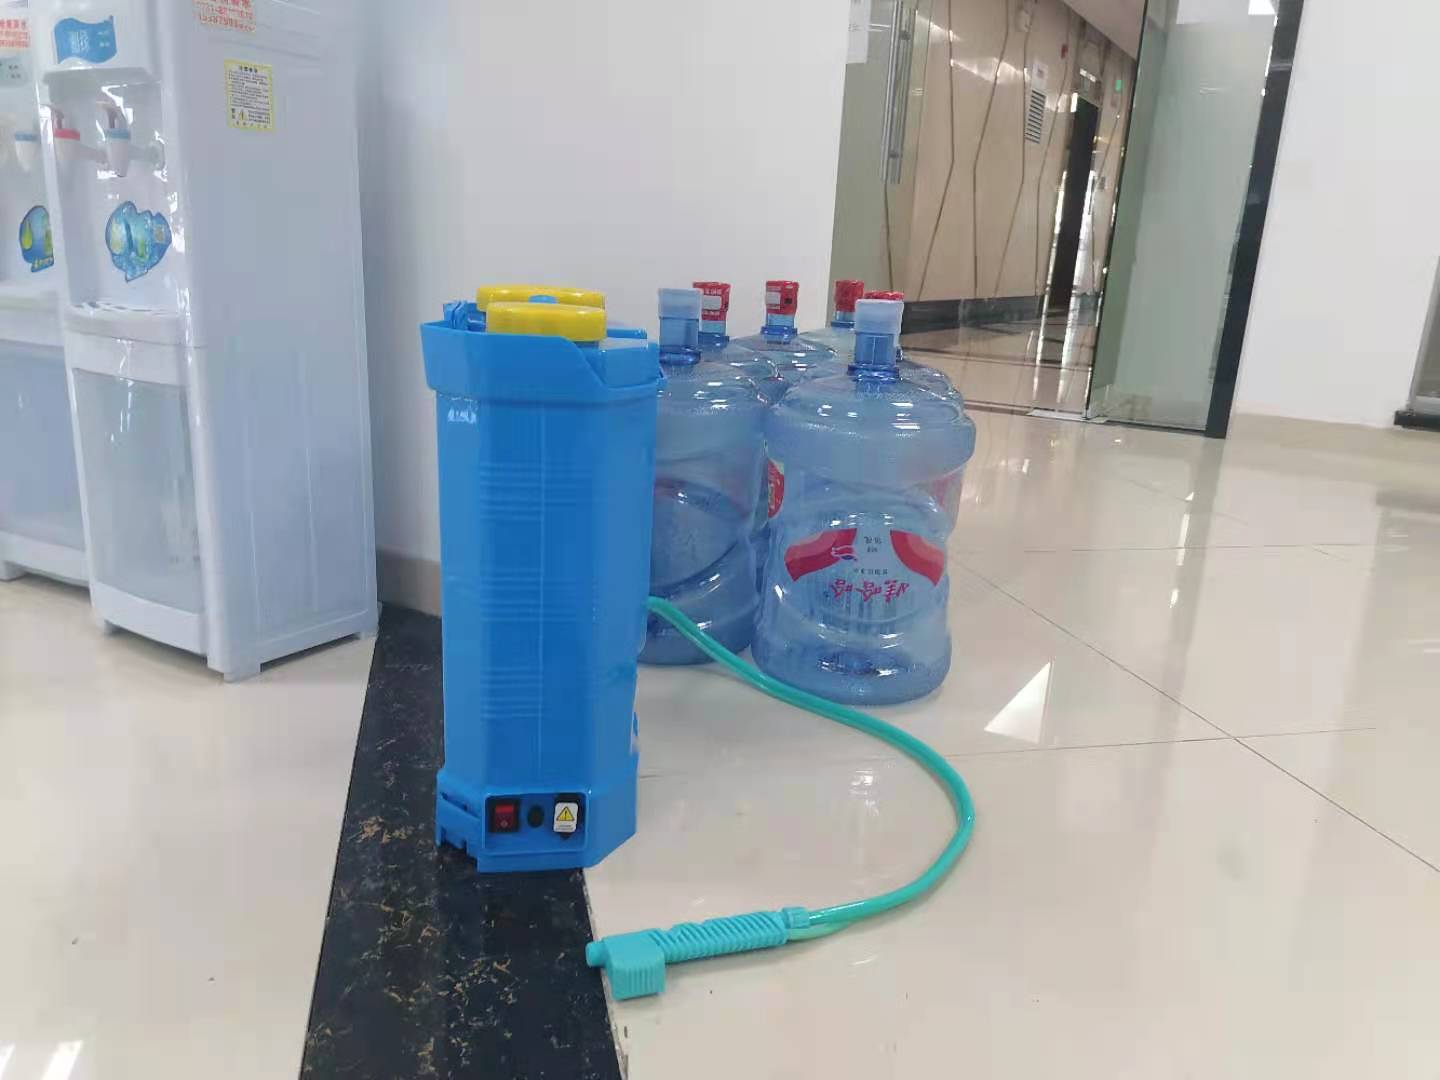berrl: (413, 281, 668, 875)
